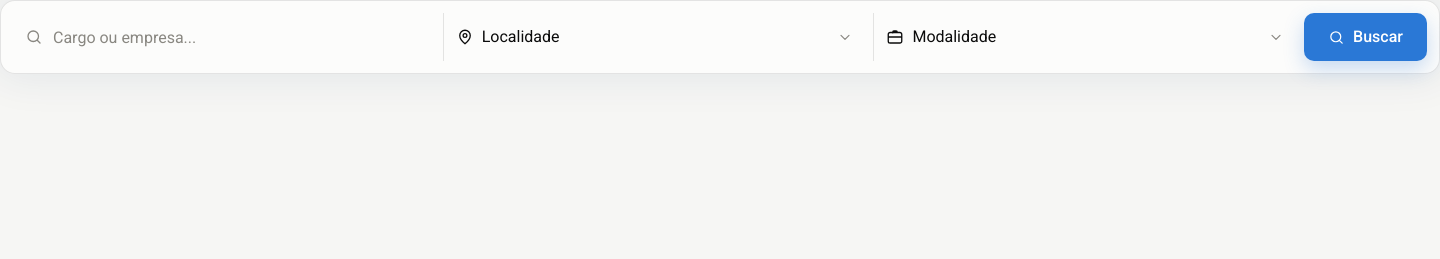
Test: SearchForm filters › offers the locations it was given
The image size is (1440, 259).
Click the dropdown named "Filtrar por localidade". click: (521, 36)
box: [456,13,853,61]
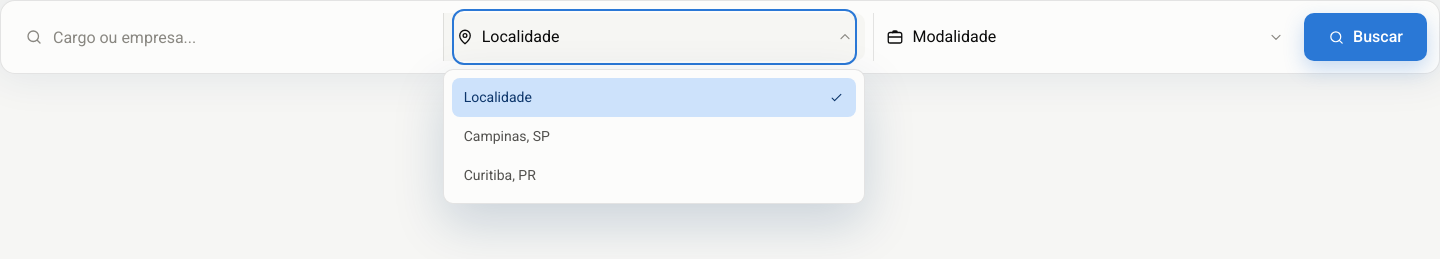
Result: the option "Curitiba, PR" is shown at [464,167,536,183]
